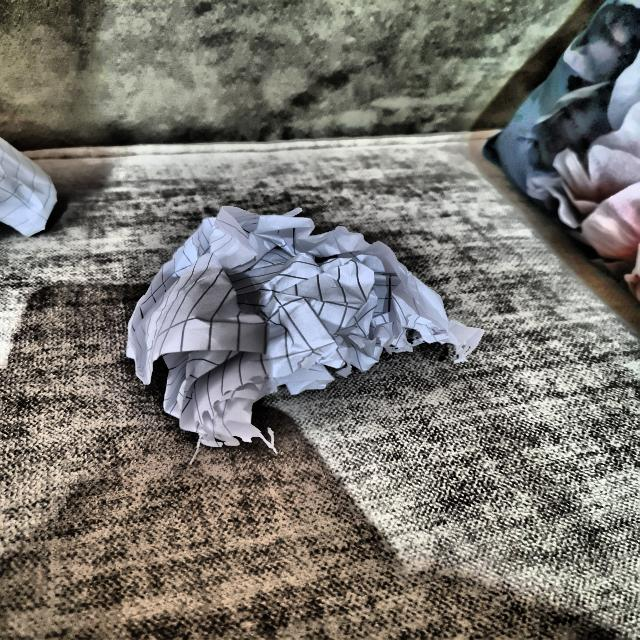Paper: (120, 204, 474, 444)
